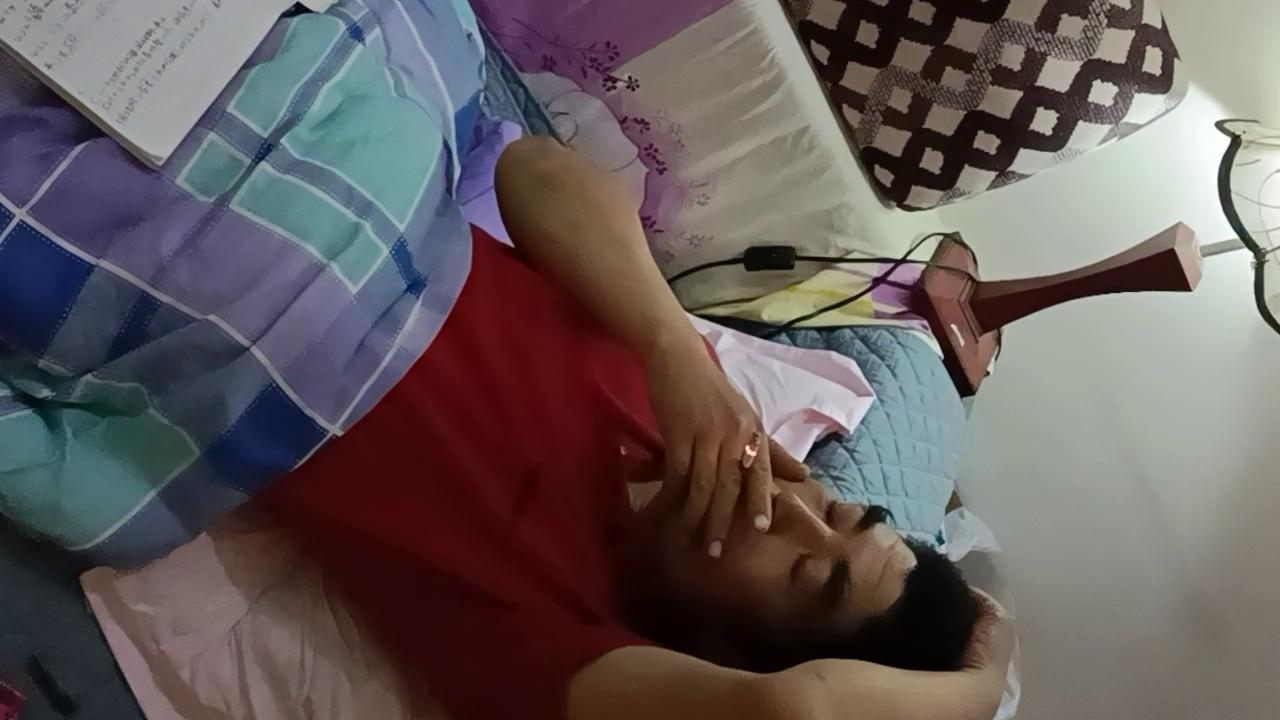smoke: (739, 432, 763, 483)
